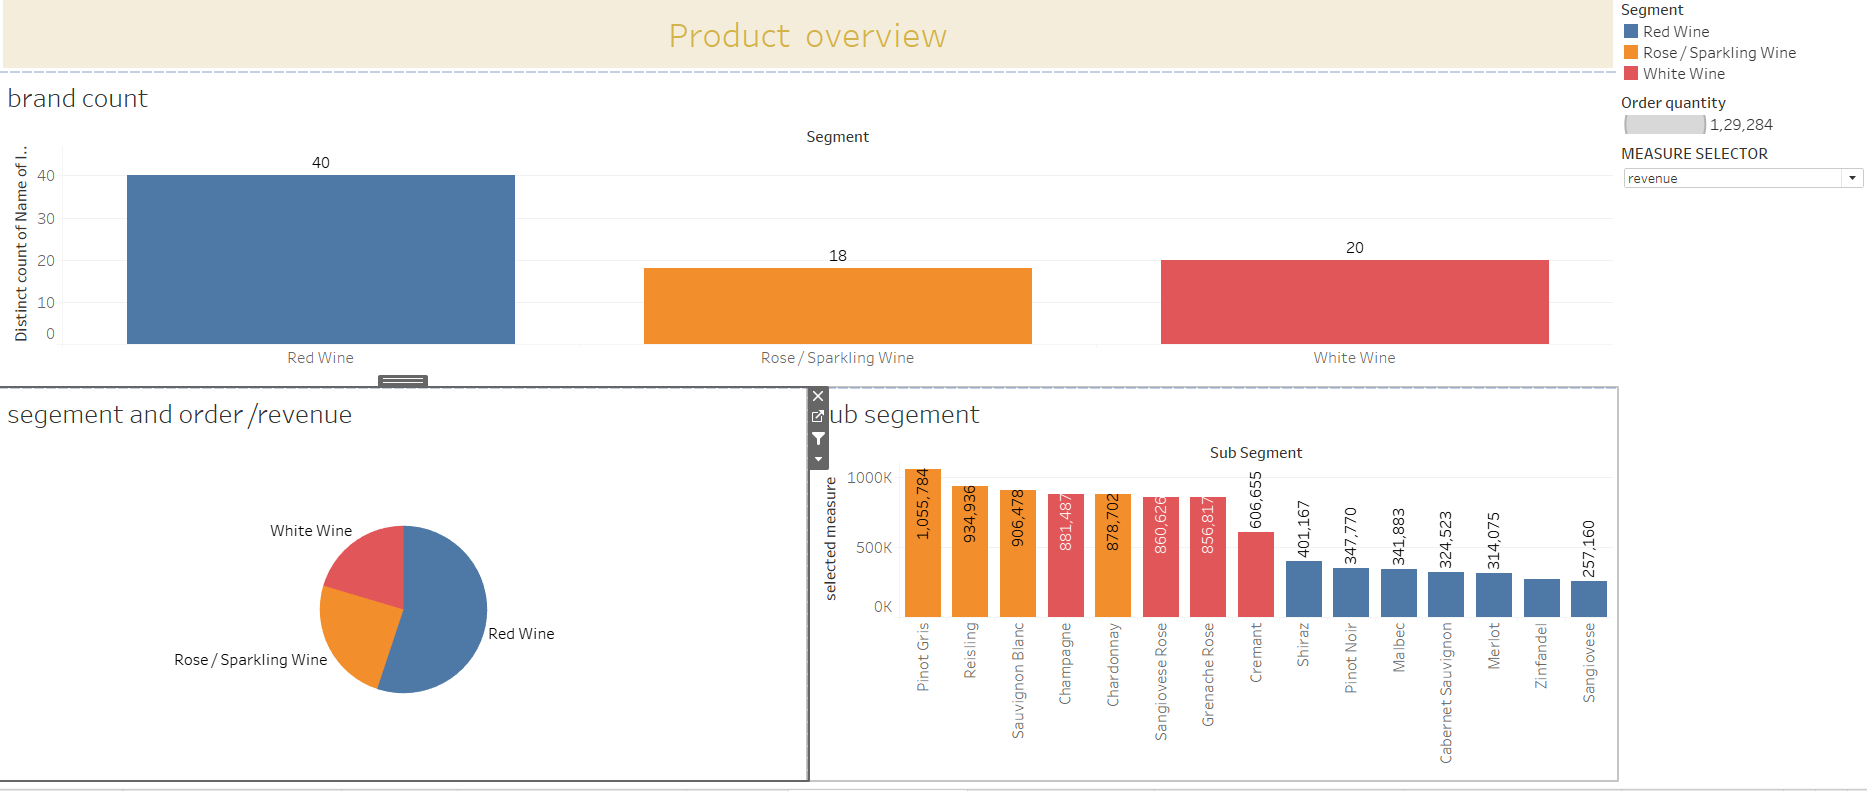

Layout of this report page (visuals, bound fields, positions):
{"tool":"tableau","page":{"name":"db product overview","canvas":[1000,1000],"units":"permille","ordinal":2},"visuals":[{"type":"text","box":[4.8,10,837.1,96.1]},{"type":"legend","title":"brand count","param":"[federated.0vxl03r12ylu6f15hnhzk1p5lfk9].[none:Segment:nk]","box":[841.9,10,153.3,63.7]},{"type":"legend","title":"segement and order /revenue","param":"[federated.0vxl03r12ylu6f15hnhzk1p5lfk9].[sum:Order quantity:qk]","box":[841.9,73.7,153.3,63.7]},{"type":"worksheet","title":"brand count","mark":"Automatic","rows":["Name of Item"],"cols":["Segment"],"box":[4.8,106.1,837.1,393.9]},{"type":"parameter","param":"[Parameters].[Parameter 1]","box":[841.9,137.3,153.3,69.9]},{"type":"worksheet","title":"segement and order /revenue","mark":"Pie","box":[4.8,500,418.5,490]},{"type":"worksheet","title":"sub segement","mark":"Automatic","rows":["Calculation_744501343357702146"],"cols":["Sub Segment"],"box":[423.3,500,418.5,490]}]}

Visuals, with their boxes on the dashboard's canvas, which has no fixed pixel size, in thousandths of its width and height (x1, y1, x2, y2). These are canvas units, not pixel positions in the 1867x791 screenshot, which may show the page scaled, cropped or inside an application window:
text: select_region(5, 10, 842, 106)
"brand count" legend: select_region(842, 10, 995, 74)
"segement and order /revenue" legend: select_region(842, 74, 995, 137)
"brand count" worksheet: select_region(5, 106, 842, 500)
parameter: select_region(842, 137, 995, 207)
"segement and order /revenue" worksheet (Pie marks): select_region(5, 500, 423, 990)
"sub segement" worksheet: select_region(423, 500, 842, 990)
